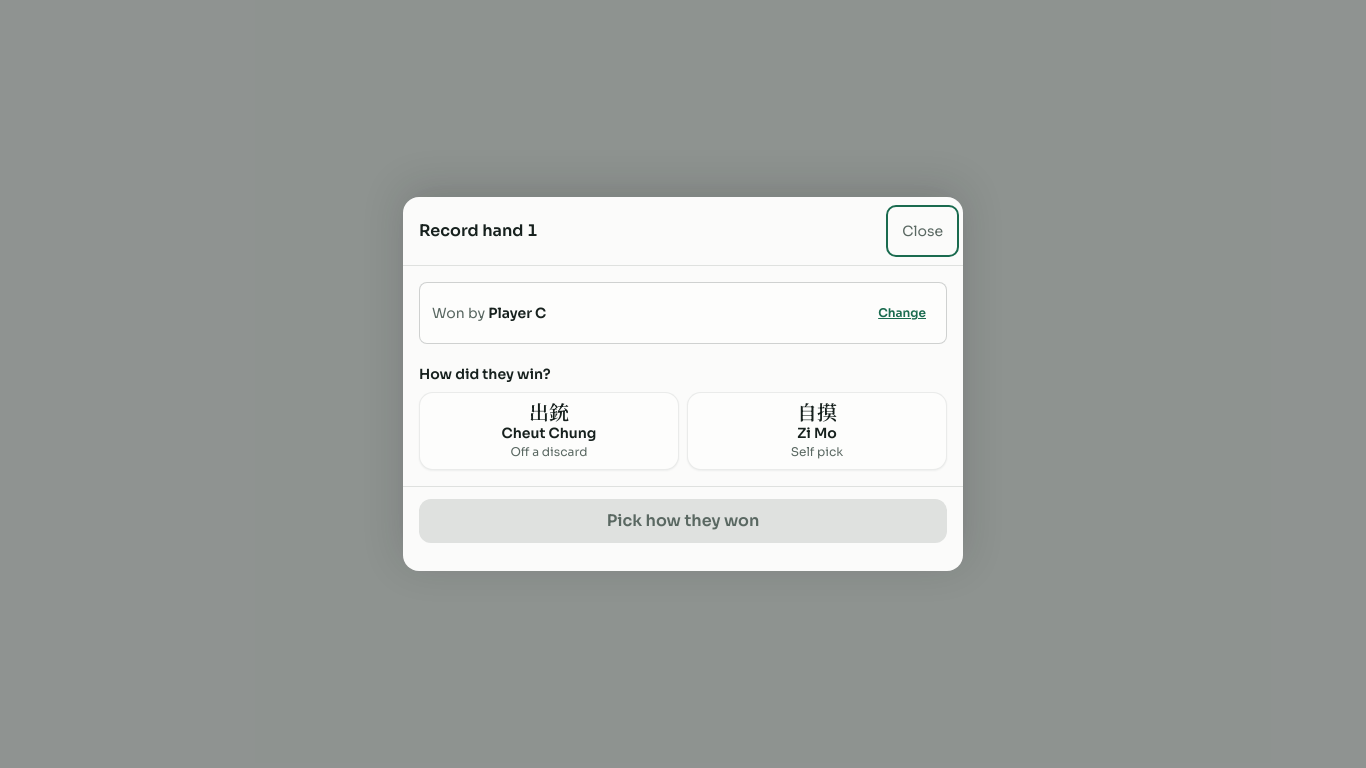
Test case: recording a hand › previews what the hand does to all four players
Click the button "自摸 Zi Mo Self pick" at (817, 431), box [687,392,947,470]
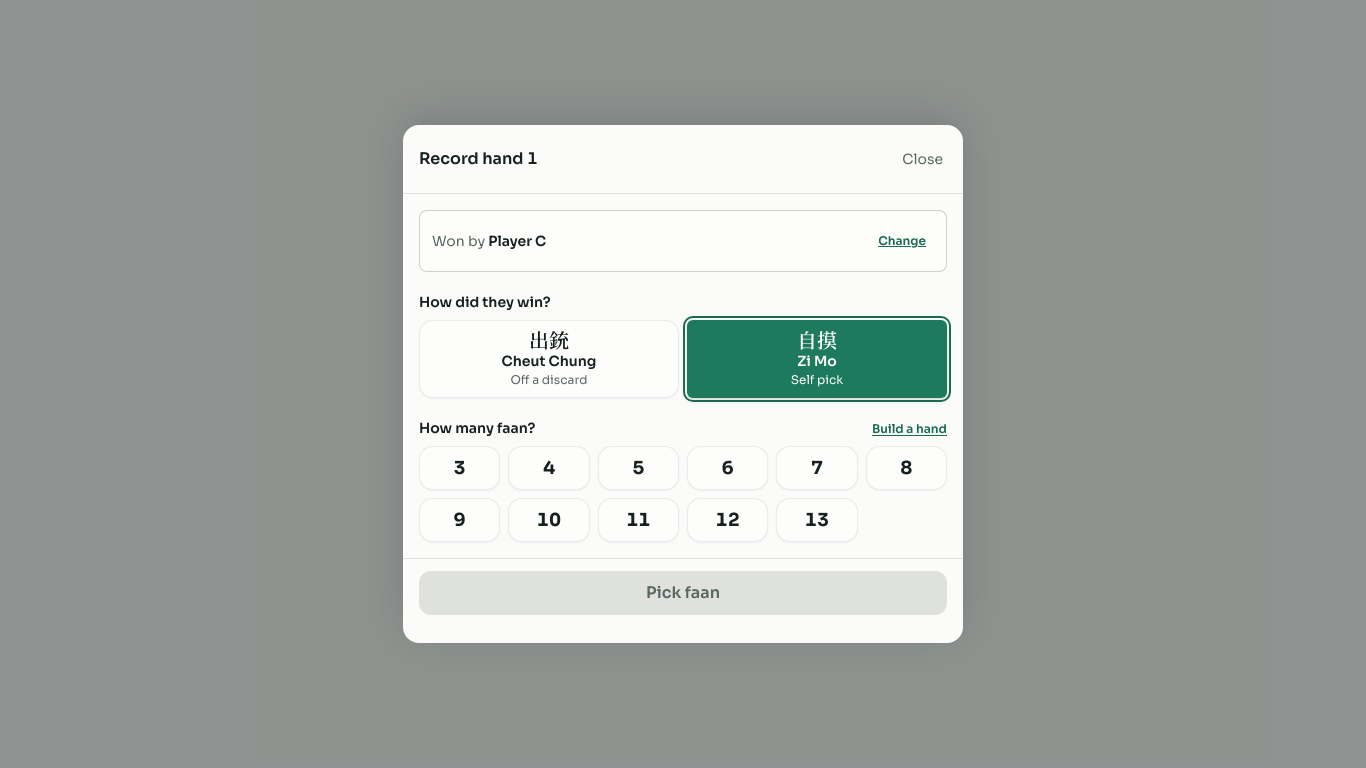
Click the button "5" at (638, 468), box [598,446,679,490]
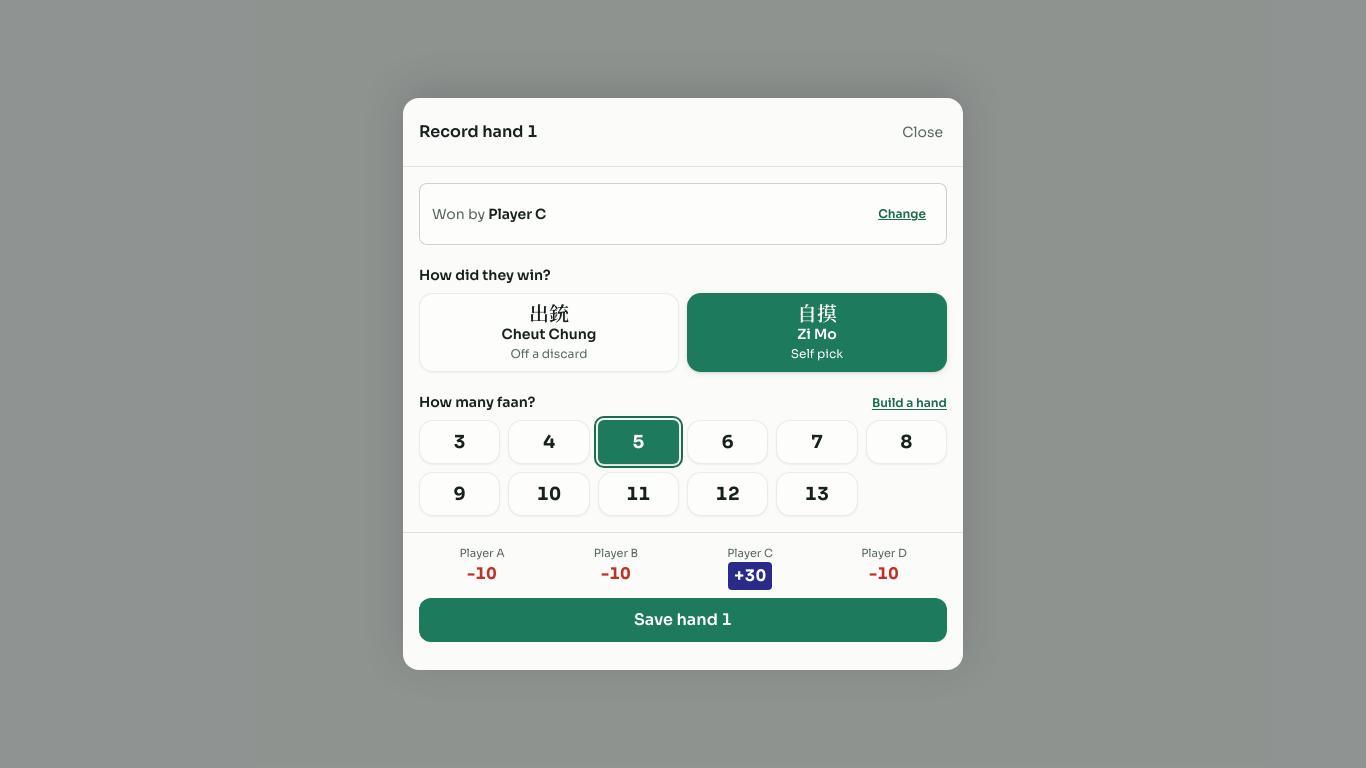
Check: the text "+30" is shown, box [728,562,772,590]
Check: the text "-10" is shown 3 times, box [467,563,497,584]; [601,563,631,584]; [869,563,899,584]
